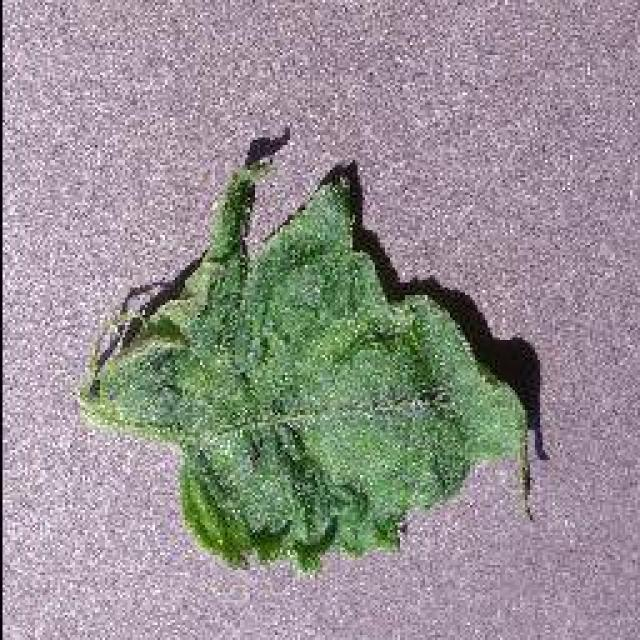Tomato___Tomato_mosaic_virus: (78, 138, 532, 570)
